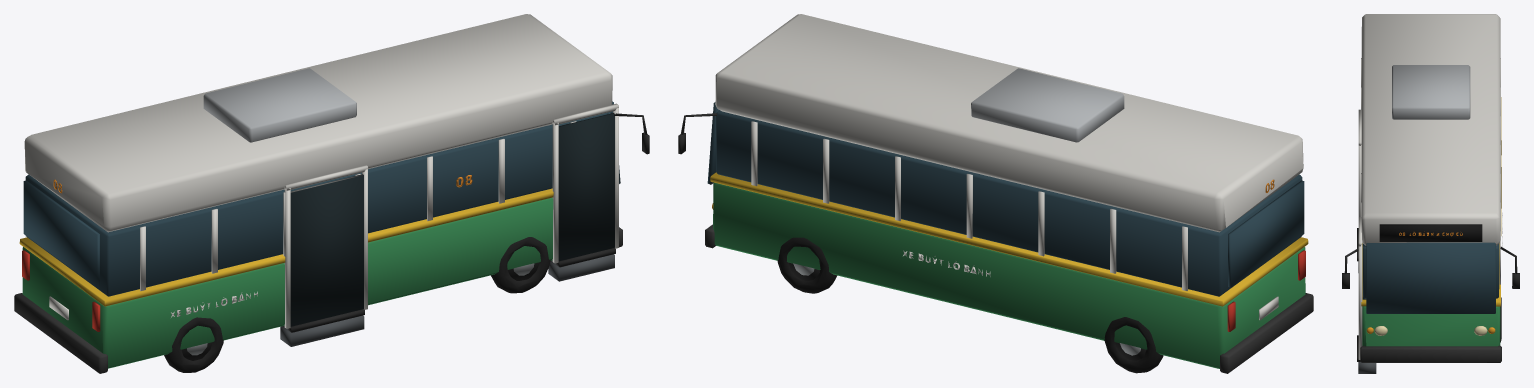
Rendered from xe_buyt_mo.glb.
The picture shows the model from 3 angles, left to right: view 1: azimuth 30°, elevation 25°; view 2: azimuth 150°, elevation 25°; view 3: azimuth 270°, elevation 25°; orthographic projection. The views are drawn at different scales.
Visible parts, largest first — view 1: xe_buyt_mo; view 2: xe_buyt_mo; view 3: xe_buyt_mo.
Part boxes in pixels (x1,y1,x2,y2): xe_buyt_mo: (14,14,649,373); xe_buyt_mo: (678,14,1313,373); xe_buyt_mo: (1342,14,1519,373).
Size of the model in its own units: 8.42 by 3.22 by 2.93.
